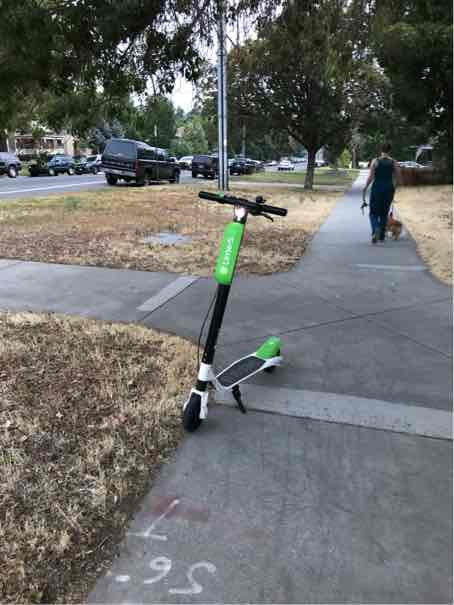scooter: (176, 194, 297, 429)
